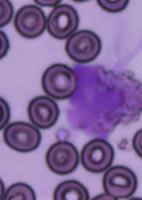D: (65, 61, 142, 138)
